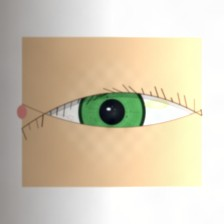pinguecula_lesion: (132, 84, 182, 125)
